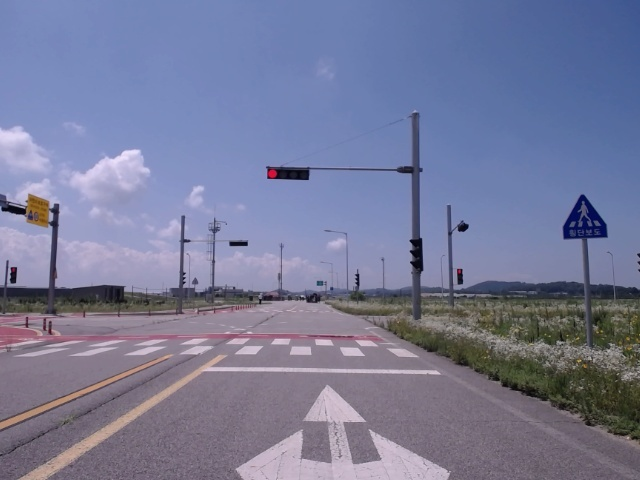red_4: (267, 168, 309, 180)
